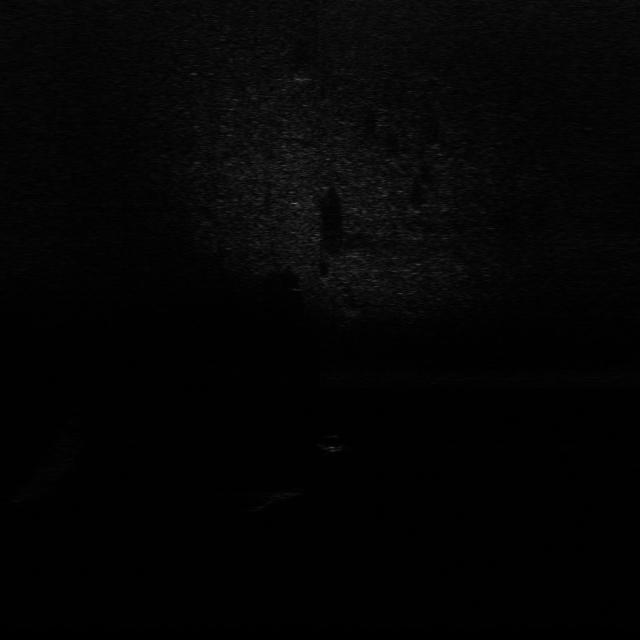ball: (319, 432, 347, 455)
square cage: (257, 486, 308, 504)
